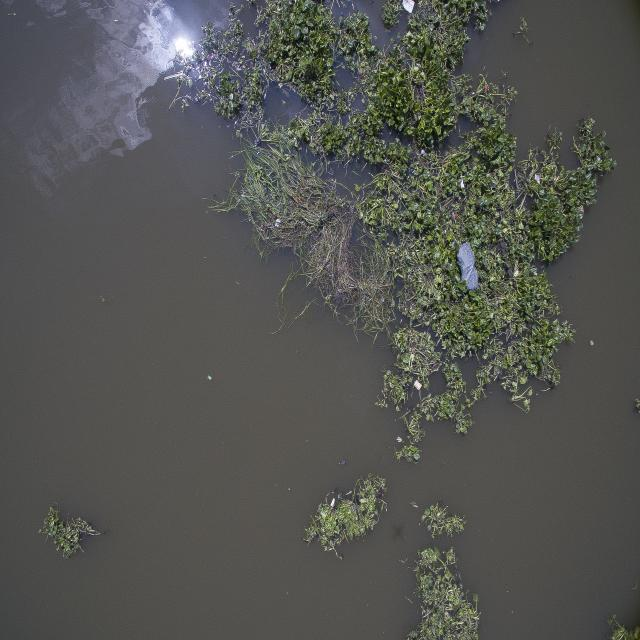Plastic: (458, 240, 480, 292), (401, 2, 416, 15), (534, 171, 542, 184), (413, 380, 423, 390), (331, 496, 335, 508), (341, 459, 346, 465)
